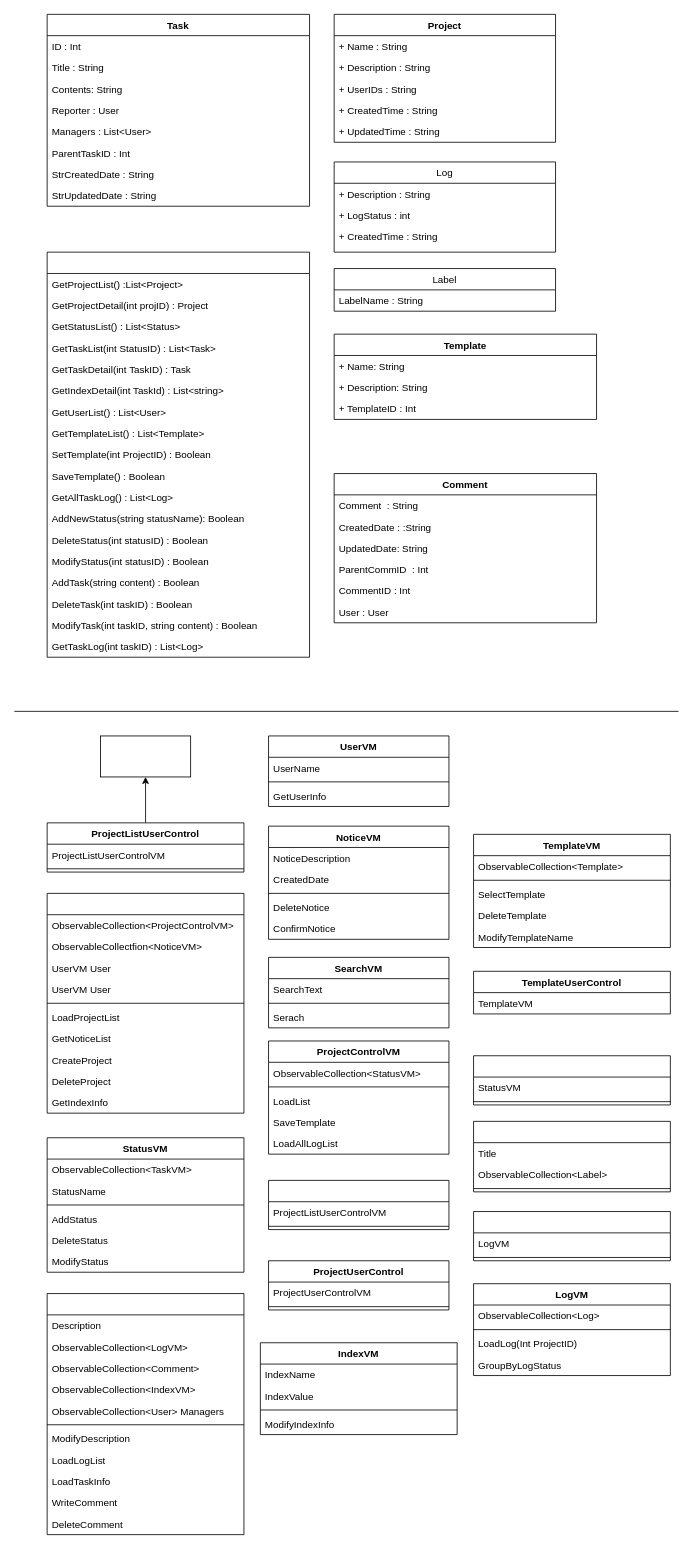
This 694x1551 diagram has some shape labels left out. Here are the shapes that lost their labels. From the top down, the box of each, then its label:
(46, 251, 310, 657): rest Api
(100, 735, 191, 777): UserControl
(46, 893, 244, 1113): ProjectListUsercontorlVM
(473, 1055, 670, 1105): StatusUserControl
(473, 1121, 670, 1192): SimpleTaskUserControl
(268, 1180, 449, 1230): MakeProjectUserControl
(473, 1211, 670, 1261): LogUserControl
(46, 1293, 244, 1535): TaskVM
